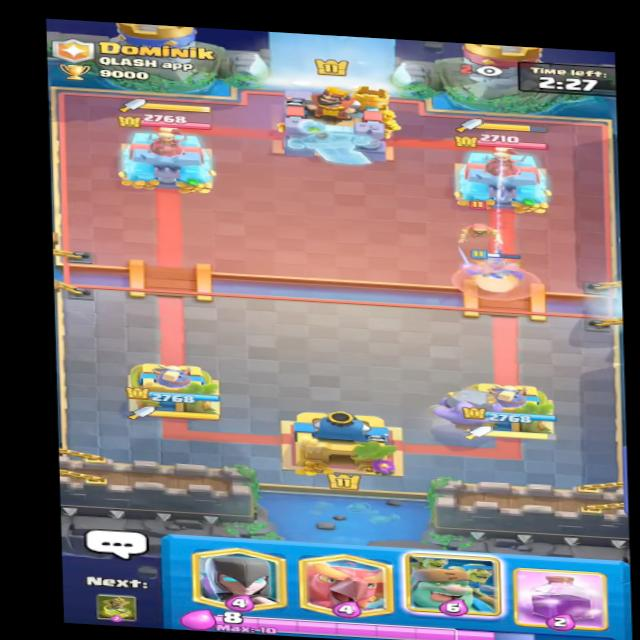Wizard: (451, 199, 504, 246)
